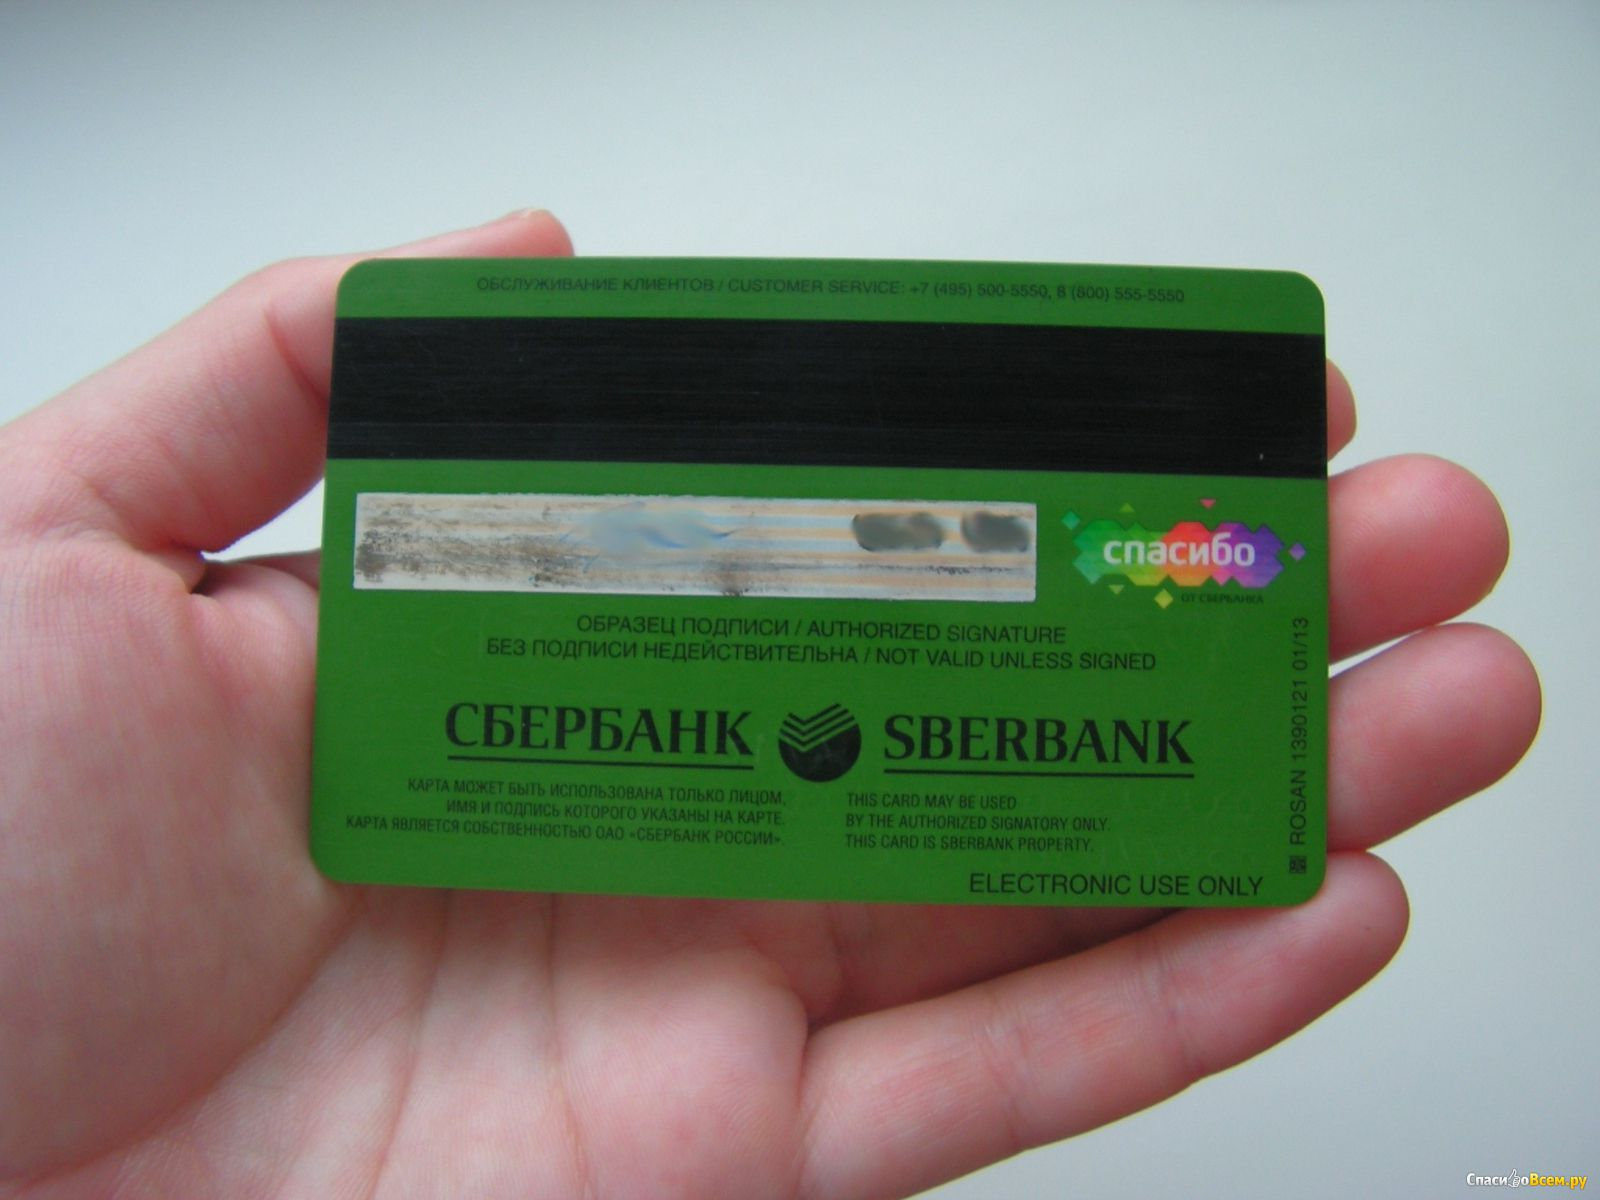card: (312, 255, 1329, 914)
